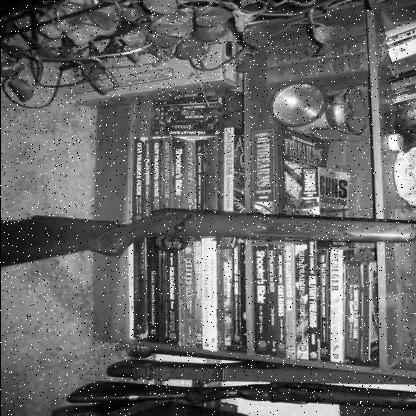rifle: (1, 176, 416, 282)
